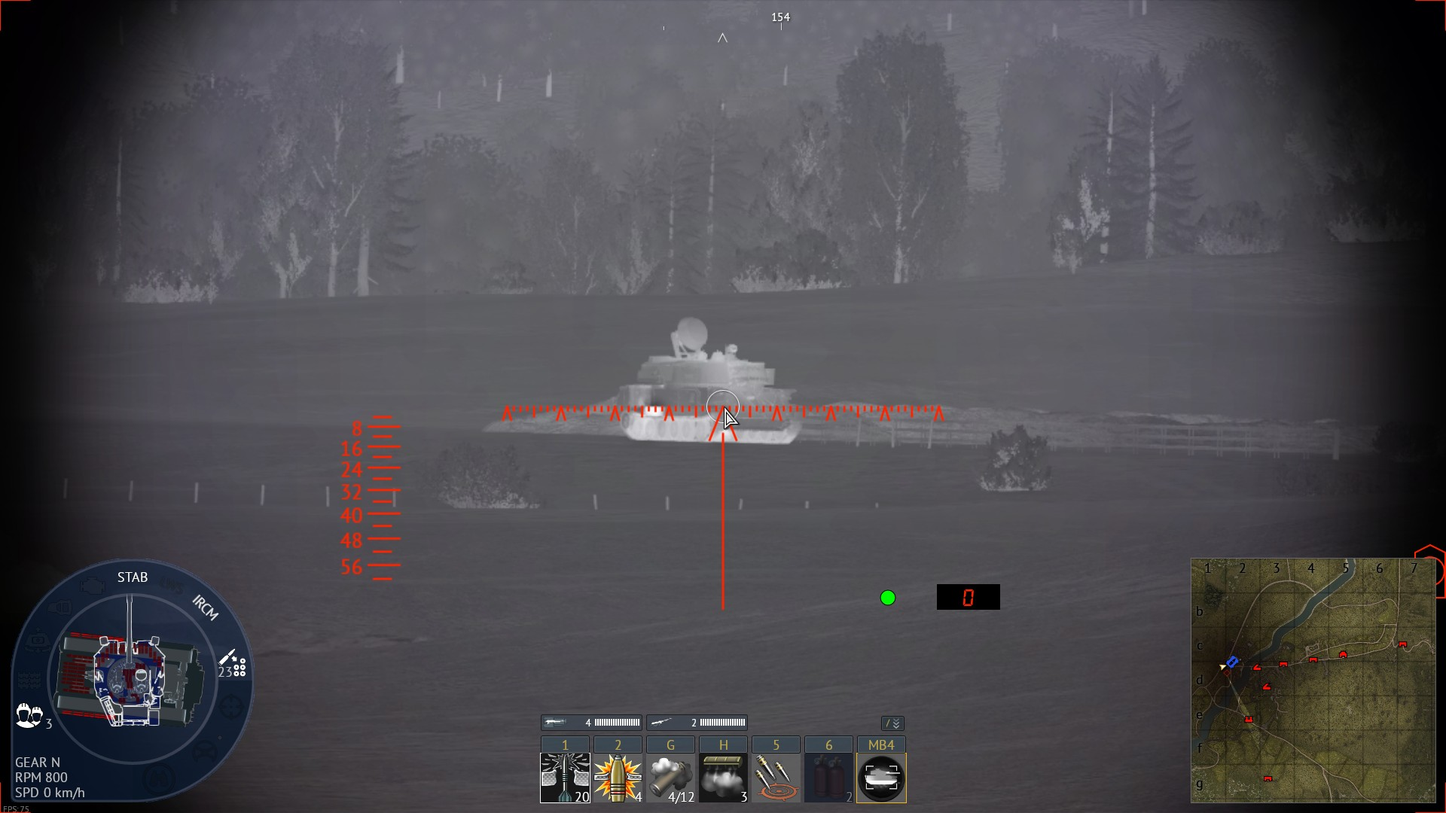spaa_zsu-23: (614, 317, 805, 445)
